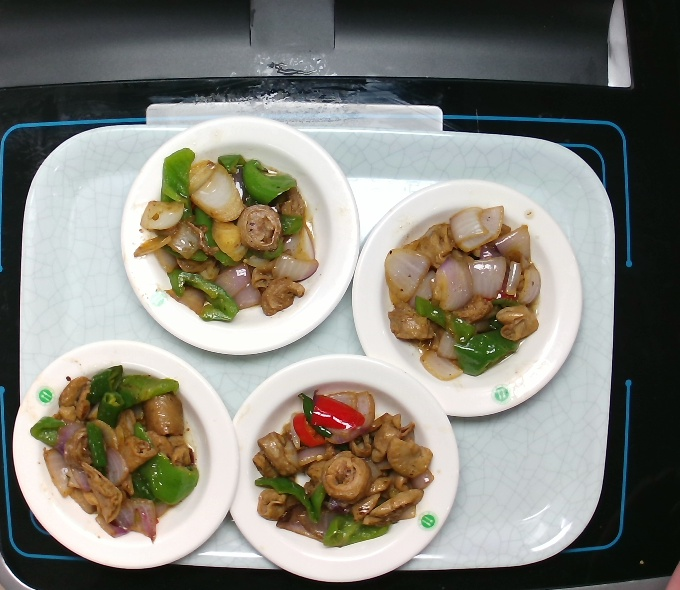wcq-QingJiaoChaoDaChang: (129, 143, 322, 328), (25, 360, 204, 547), (248, 381, 438, 552), (378, 202, 545, 384)
